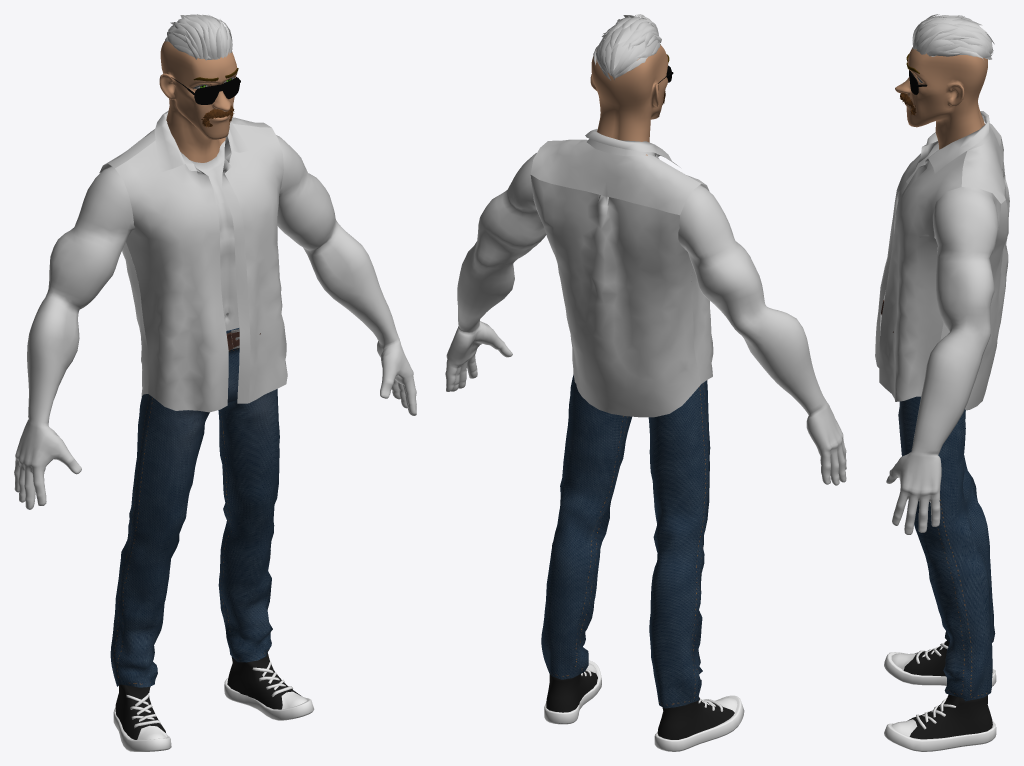
The model's file is M Character 9.fbx.
The picture shows the model from 3 angles, left to right: view 1: azimuth 30°, elevation 25°; view 2: azimuth 150°, elevation 25°; view 3: azimuth 270°, elevation 25°; orthographic projection.
Parts seen in each view (by area): view 1: shirts, PANT.001, body.009, shoes.007, m_head, hair.008, m_body, glasses; view 2: shirts, PANT.001, body.009, shoes.007, m_head, hair.008; view 3: shirts, body.009, PANT.001, shoes.007, m_head, hair.008.
Boxes of the visible parts, box(x1,y1,x2,y2) form: shirts: box(99, 110, 287, 412); PANT.001: box(110, 328, 279, 687); body.009: box(14, 135, 416, 509); shoes.007: box(113, 653, 314, 751); m_head: box(159, 41, 238, 162); hair.008: box(165, 14, 232, 60); m_body: box(190, 141, 226, 204); glasses: box(171, 76, 240, 104); shirts: box(530, 129, 713, 417); PANT.001: box(541, 374, 710, 708); body.009: box(445, 153, 846, 485); shoes.007: box(544, 660, 744, 751); m_head: box(590, 44, 669, 155); hair.008: box(593, 14, 661, 80); shirts: box(875, 111, 1009, 410); body.009: box(886, 182, 1000, 534); PANT.001: box(898, 396, 995, 701); shoes.007: box(884, 640, 996, 751); m_head: box(895, 47, 987, 149); hair.008: box(912, 14, 994, 59).
Size of the model in its own units: 117 by 201 by 35.35.
